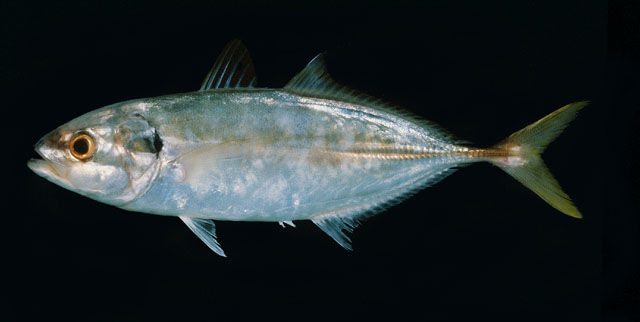fish: (28, 50, 584, 256)
